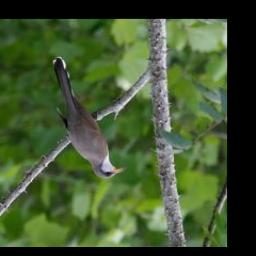Cuckoo: (51, 55, 127, 181)
